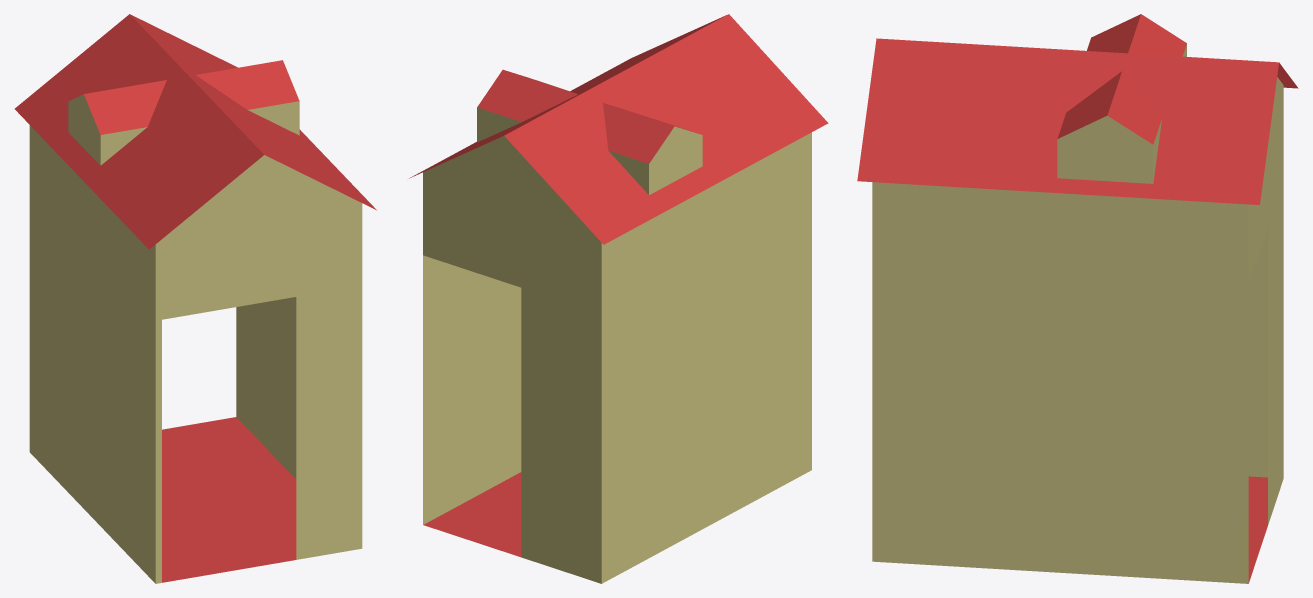
The picture shows the model from 3 angles, left to right: view 1: azimuth 30°, elevation 25°; view 2: azimuth 150°, elevation 25°; view 3: azimuth 270°, elevation 25°; orthographic projection. The views are drawn at different scales.
Bounding box in the file's own units: 12.54 × 16.65 × 19.58.
